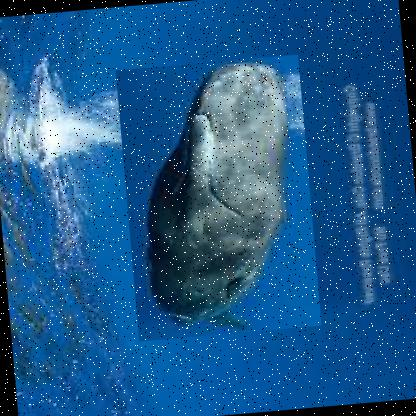sperm_whale: (115, 55, 322, 342)
